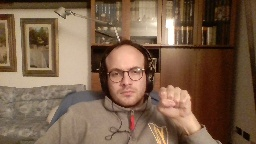Pugno: (153, 83, 193, 120)
